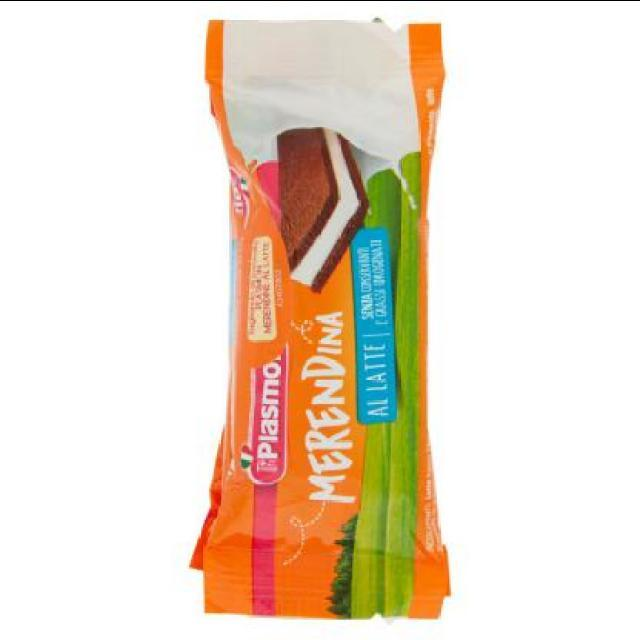Merendine: (198, 14, 447, 612)
